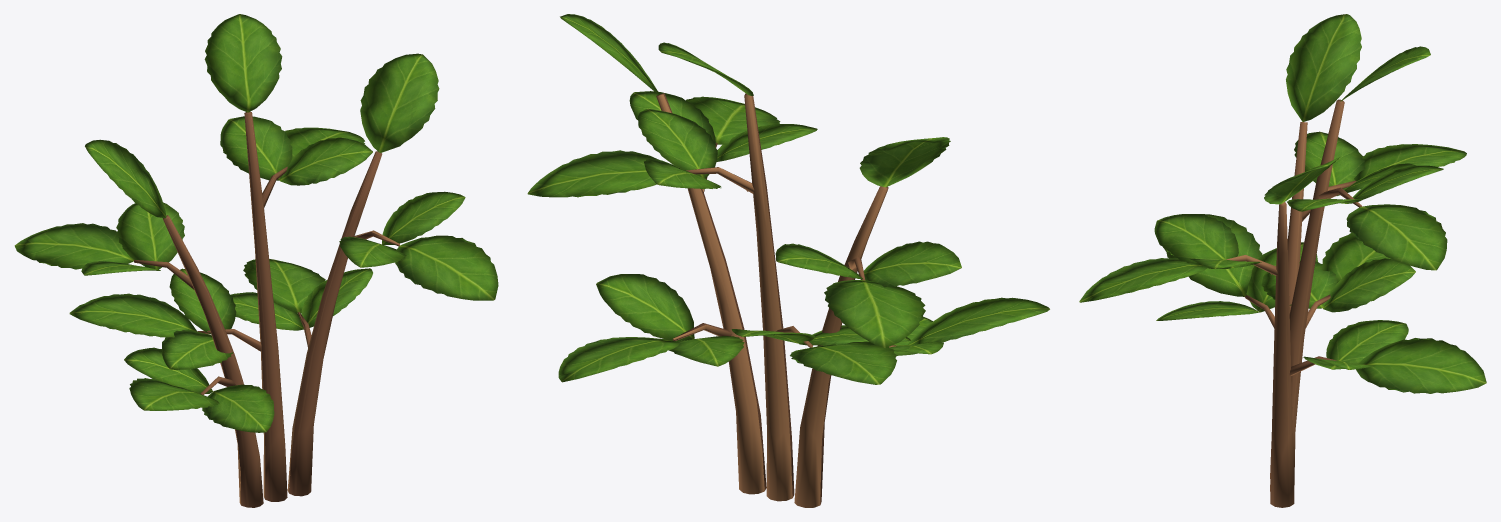
Rendered from NP_Raspberry_Young_LOD1.fbx.
3 renders of one model, left to right at view 1: azimuth 30°, elevation 25°; view 2: azimuth 150°, elevation 25°; view 3: azimuth 270°, elevation 25°, orthographic. The views are drawn at different scales.
Parts seen in each view (by area): view 1: NP_Raspberry_Young; view 2: NP_Raspberry_Young; view 3: NP_Raspberry_Young.
Boxes of the visible parts, bbox=[...] form: NP_Raspberry_Young: bbox=[14, 14, 498, 507]; NP_Raspberry_Young: bbox=[527, 14, 1049, 507]; NP_Raspberry_Young: bbox=[1079, 14, 1486, 507].
Size of the model in its own units: 51.46 by 59.11 by 48.28.
